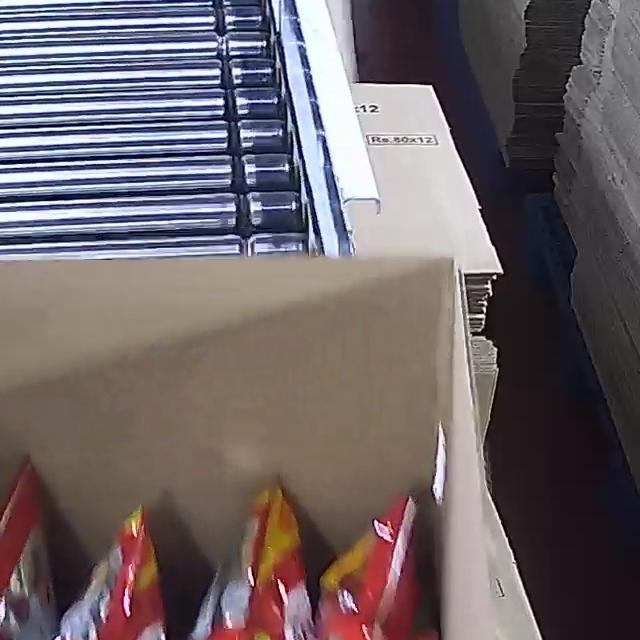masala: (0, 458, 450, 640)
